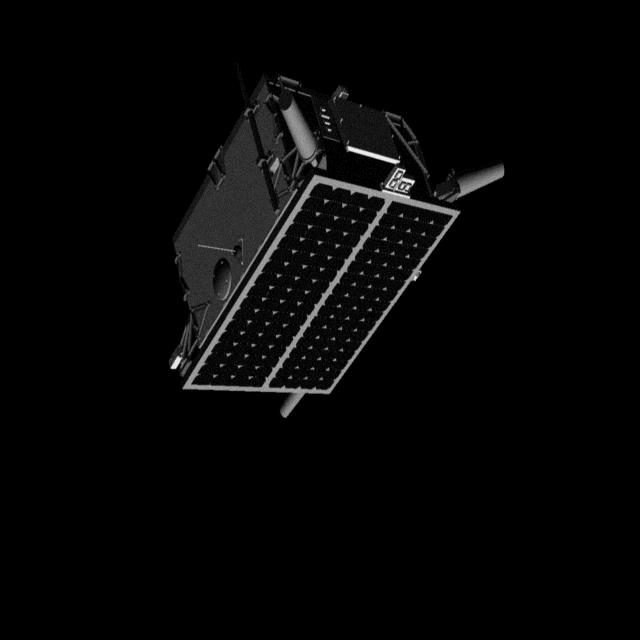medium_debris: (158, 58, 512, 424)
